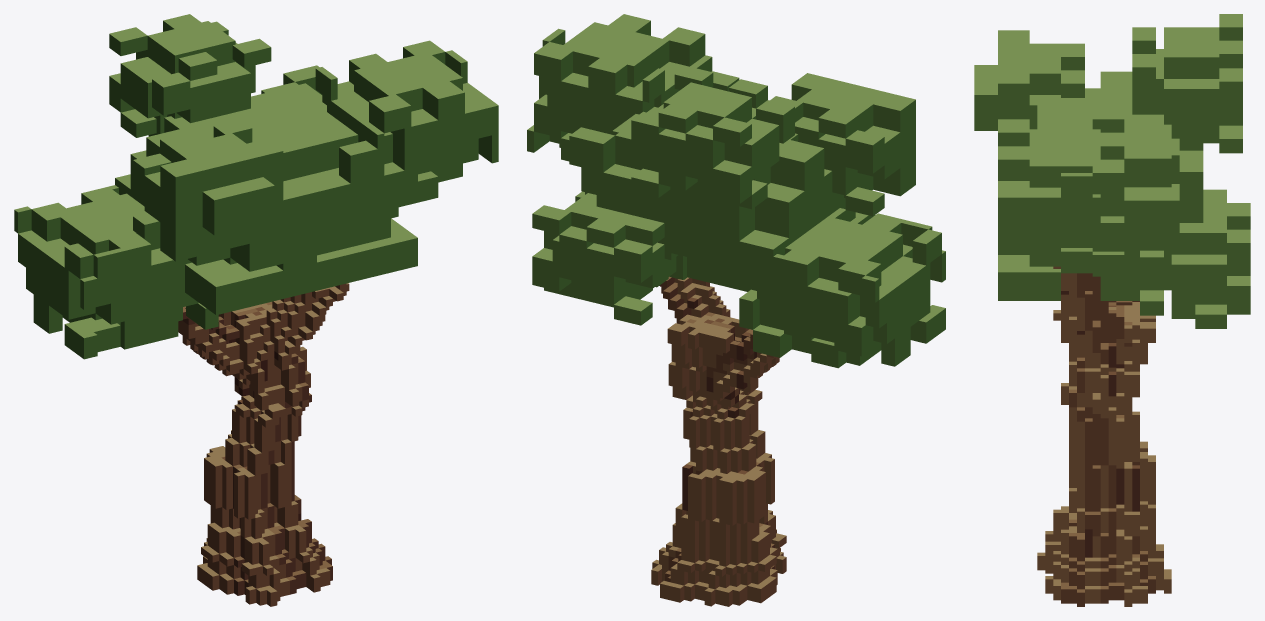
Rendered from veg_tree-oak_var01_medium.glb.
The picture shows the model from 3 angles, left to right: view 1: azimuth 30°, elevation 25°; view 2: azimuth 150°, elevation 25°; view 3: azimuth 270°, elevation 25°; orthographic projection.
Visible parts, largest first — view 1: veg_tree-oak_var01_medium; view 2: veg_tree-oak_var01_medium; view 3: veg_tree-oak_var01_medium.
Part boxes in pixels (left/top/right/bottom): veg_tree-oak_var01_medium: left=14, top=14, right=498, bottom=606; veg_tree-oak_var01_medium: left=527, top=14, right=945, bottom=606; veg_tree-oak_var01_medium: left=974, top=14, right=1250, bottom=606.
Size of the model in its own units: 3.56 by 4.56 by 2.19.
